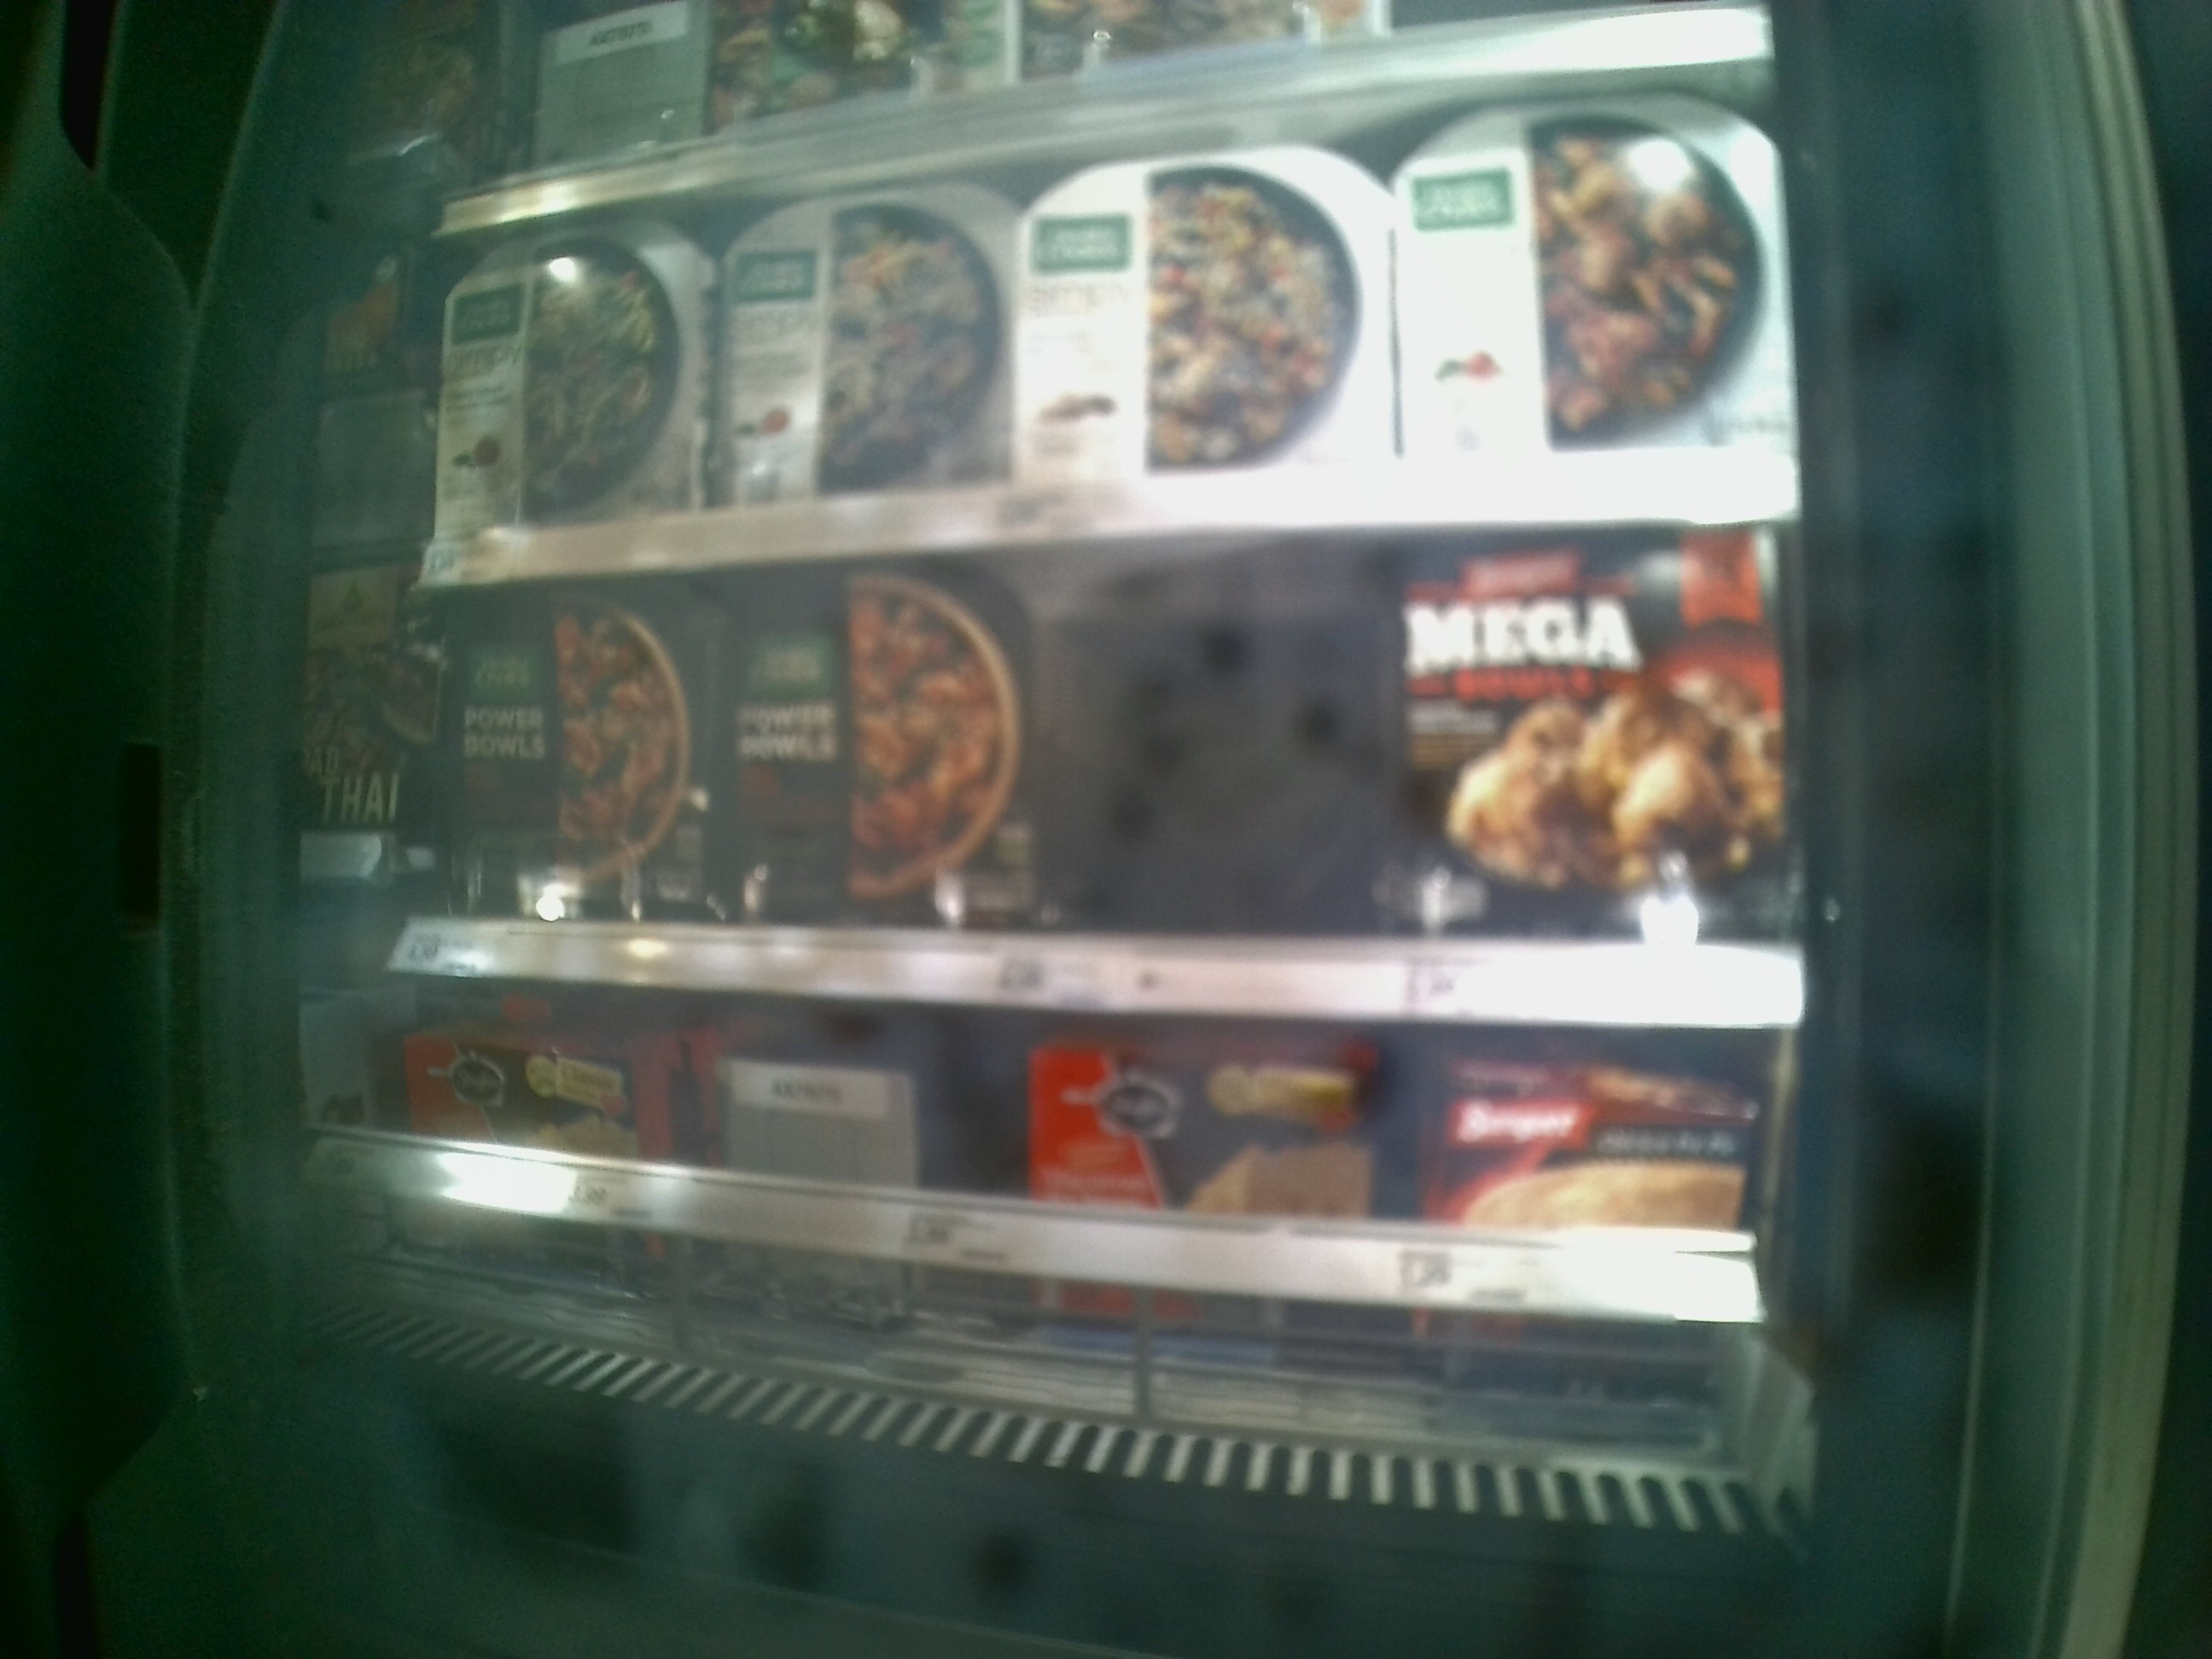shelf: (320, 965, 1806, 1502), (420, 521, 1797, 1023)
